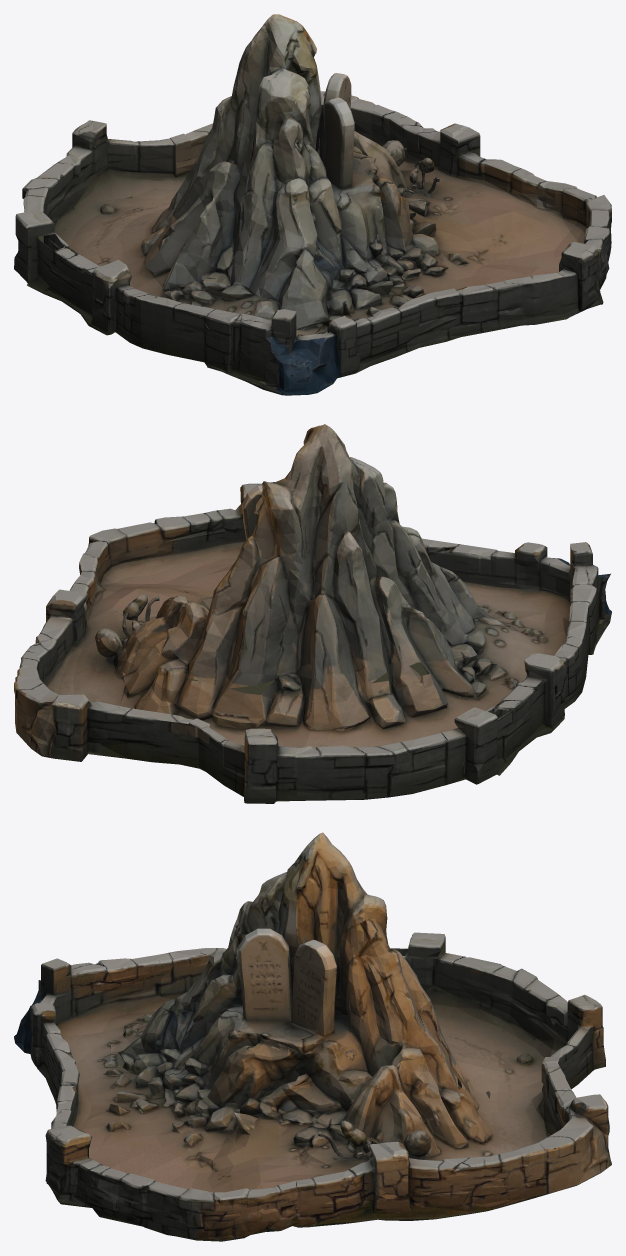
The model's file is Mandamientos.glb.
The picture shows the model from 3 angles, top to bottom: view 1: azimuth 30°, elevation 25°; view 2: azimuth 150°, elevation 25°; view 3: azimuth 270°, elevation 25°; orthographic projection. The views are drawn at different scales.
Parts seen in each view (by area): view 1: tripo_node_9f0c6252-e072-4081-985f-db1e336f778b; view 2: tripo_node_9f0c6252-e072-4081-985f-db1e336f778b; view 3: tripo_node_9f0c6252-e072-4081-985f-db1e336f778b.
Part boxes in pixels (<box>): tripo_node_9f0c6252-e072-4081-985f-db1e336f778b: <box>14,14,611,395</box>; tripo_node_9f0c6252-e072-4081-985f-db1e336f778b: <box>14,424,611,803</box>; tripo_node_9f0c6252-e072-4081-985f-db1e336f778b: <box>14,832,611,1241</box>.
Size of the model in its own units: 14.2 by 7.14 by 14.3.
1 material, 1 textured.
